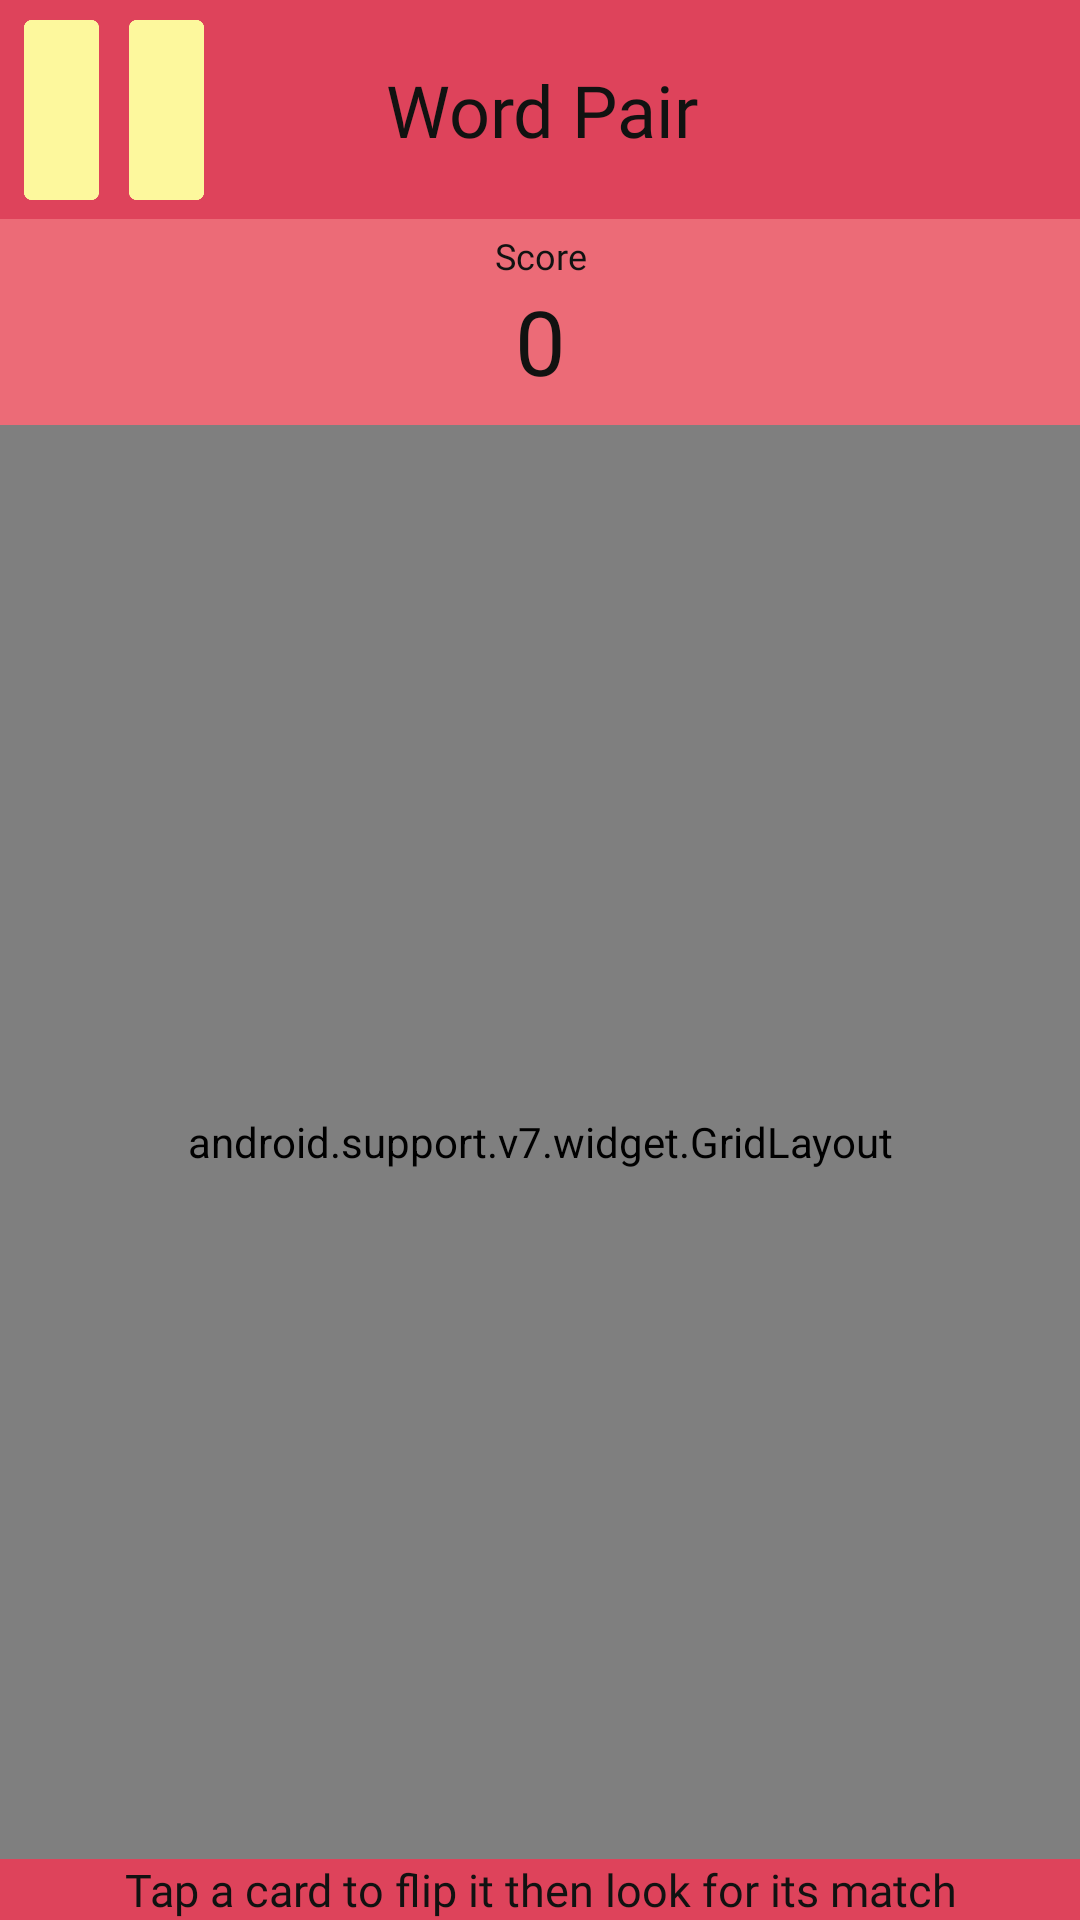

Point at icon controls on the screen. Image size 1080×1920, points as point (x, y).
pause: point (114, 110)
